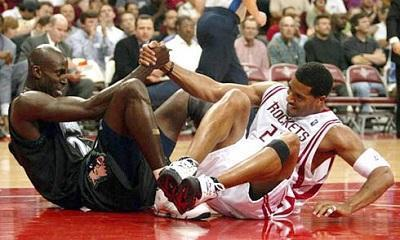10+: (2, 2, 397, 206)
down: (138, 45, 396, 223), (6, 40, 194, 211)
